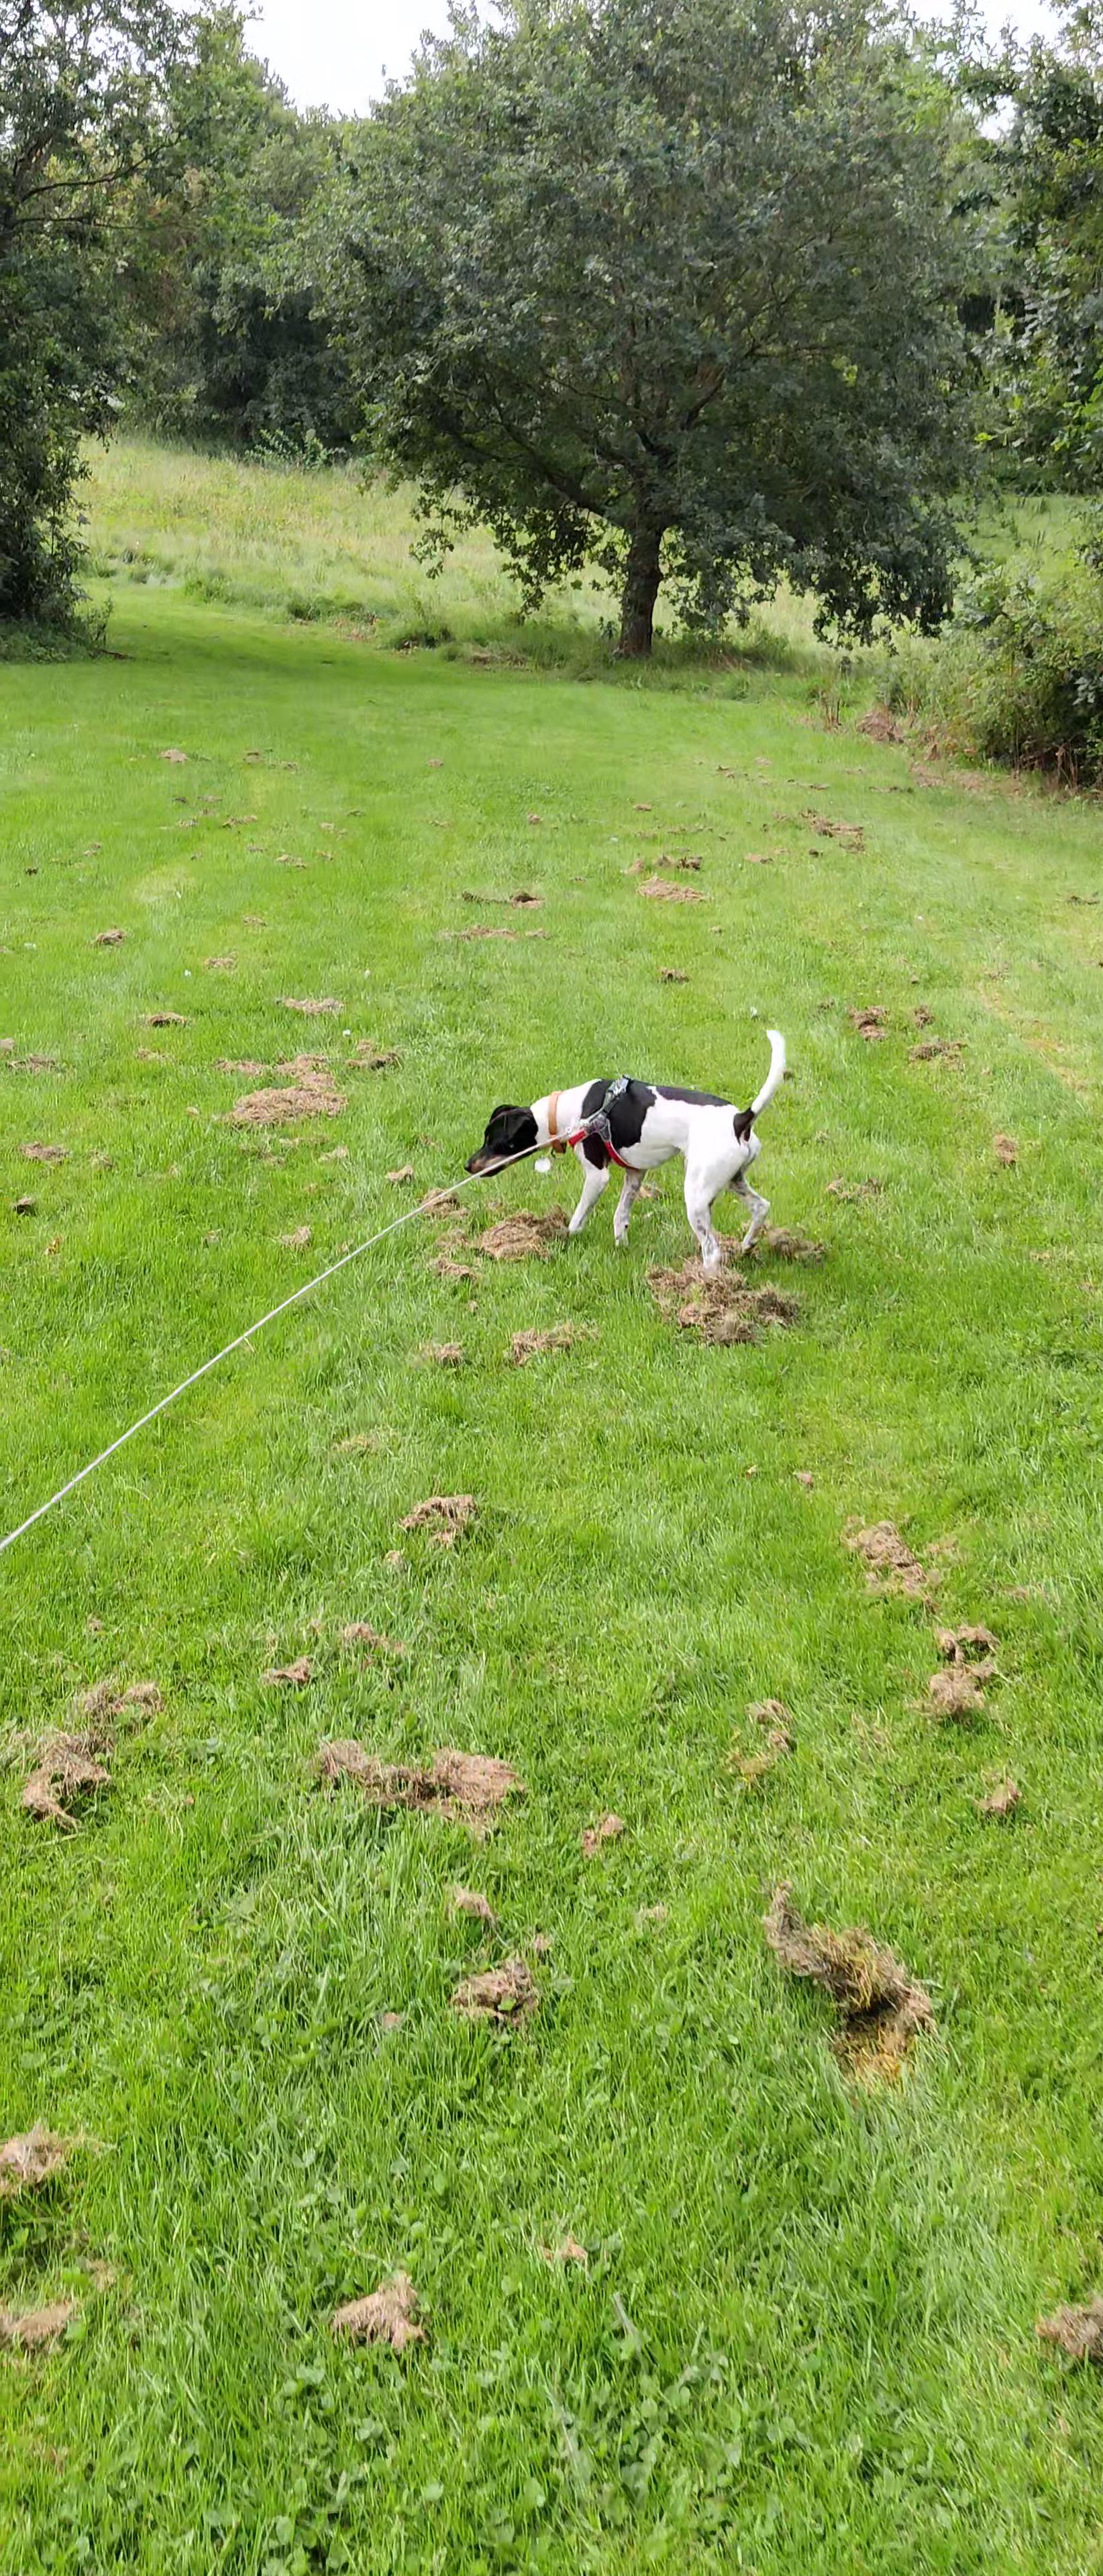Dog: (460, 1023, 804, 1276)
